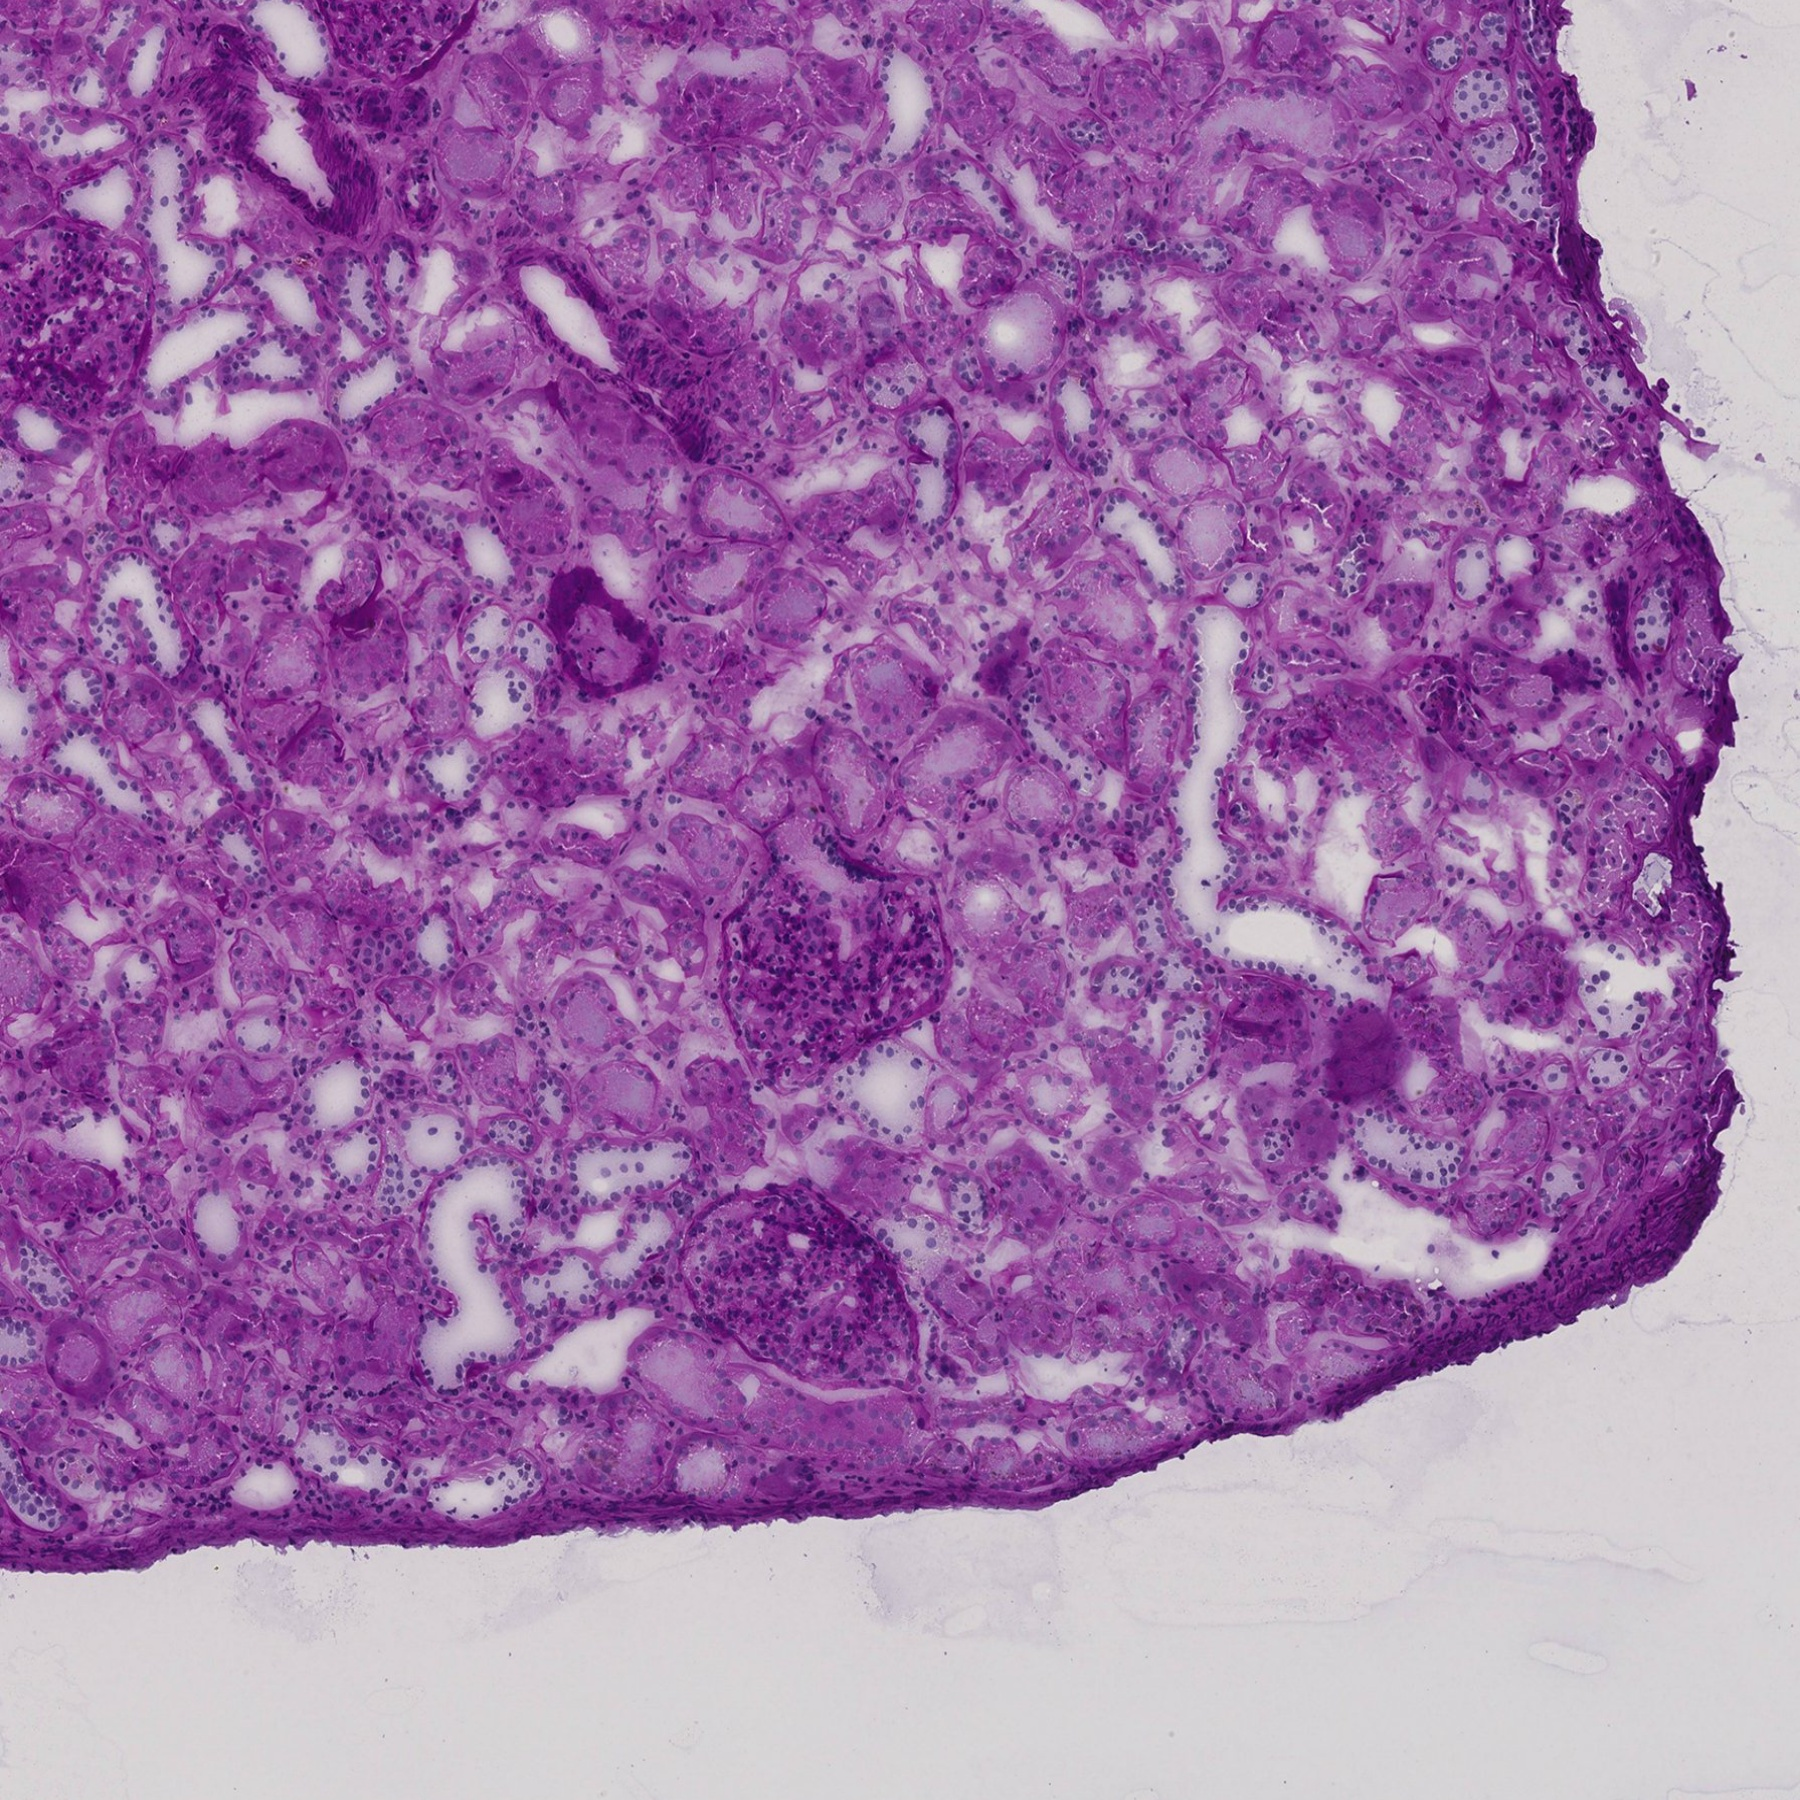Glomeruli: (712, 841, 956, 1099), (674, 1175, 930, 1396), (2, 209, 163, 430), (308, 2, 481, 91)
